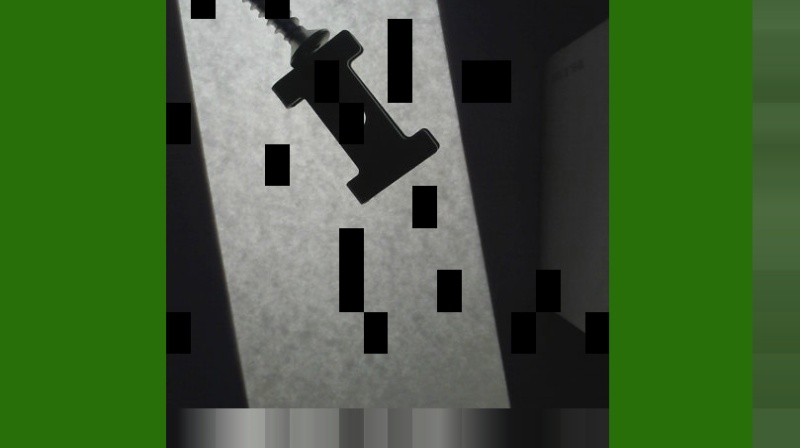O002: (271, 29, 439, 205)
S001: (197, 0, 328, 69)
